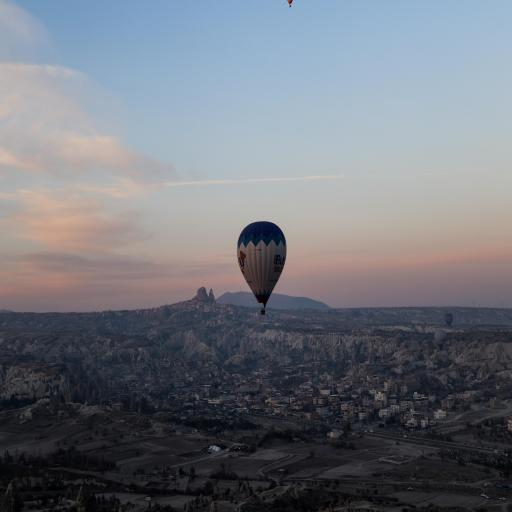hot air ballon: (237, 221, 287, 316)
